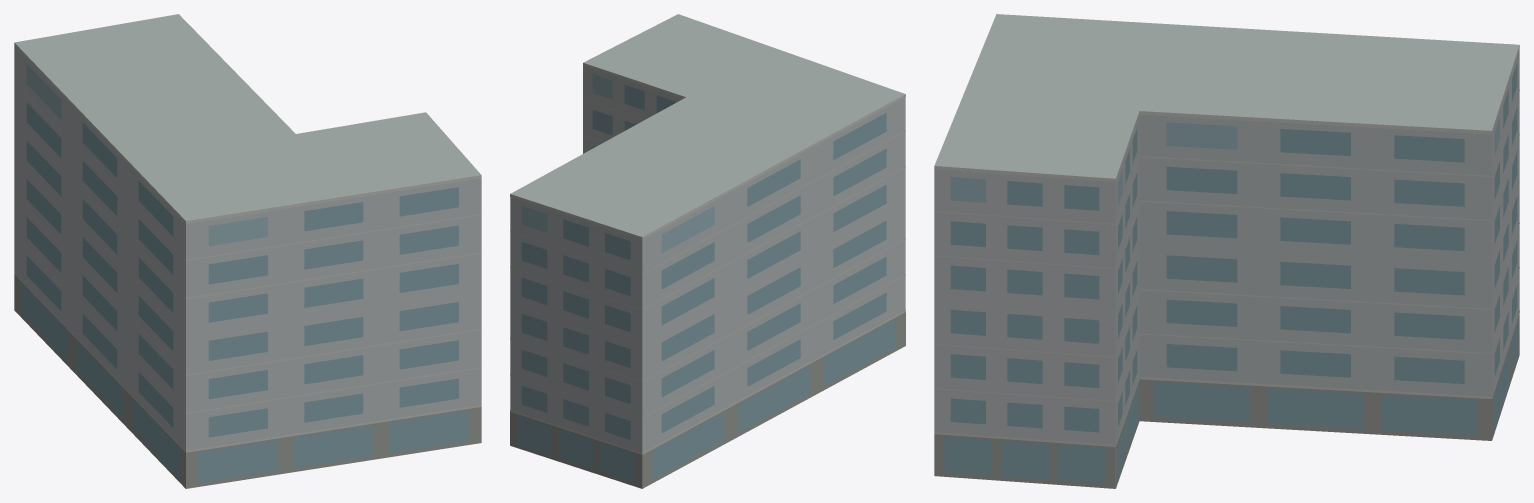
File: survey-upis-32762641.glb
3 renders of one model, left to right at view 1: azimuth 30°, elevation 25°; view 2: azimuth 150°, elevation 25°; view 3: azimuth 270°, elevation 25°, orthographic. The views are drawn at different scales.
Visible parts, largest first — view 1: survey-upis-32762641.tmp; view 2: survey-upis-32762641.tmp; view 3: survey-upis-32762641.tmp.
Boxes of the visible parts, bbox=[...] form: survey-upis-32762641.tmp: bbox=[14, 14, 481, 488]; survey-upis-32762641.tmp: bbox=[510, 14, 905, 488]; survey-upis-32762641.tmp: bbox=[934, 14, 1519, 488].
Size of the model in its own units: 24.08 by 21.1 by 36.12.
